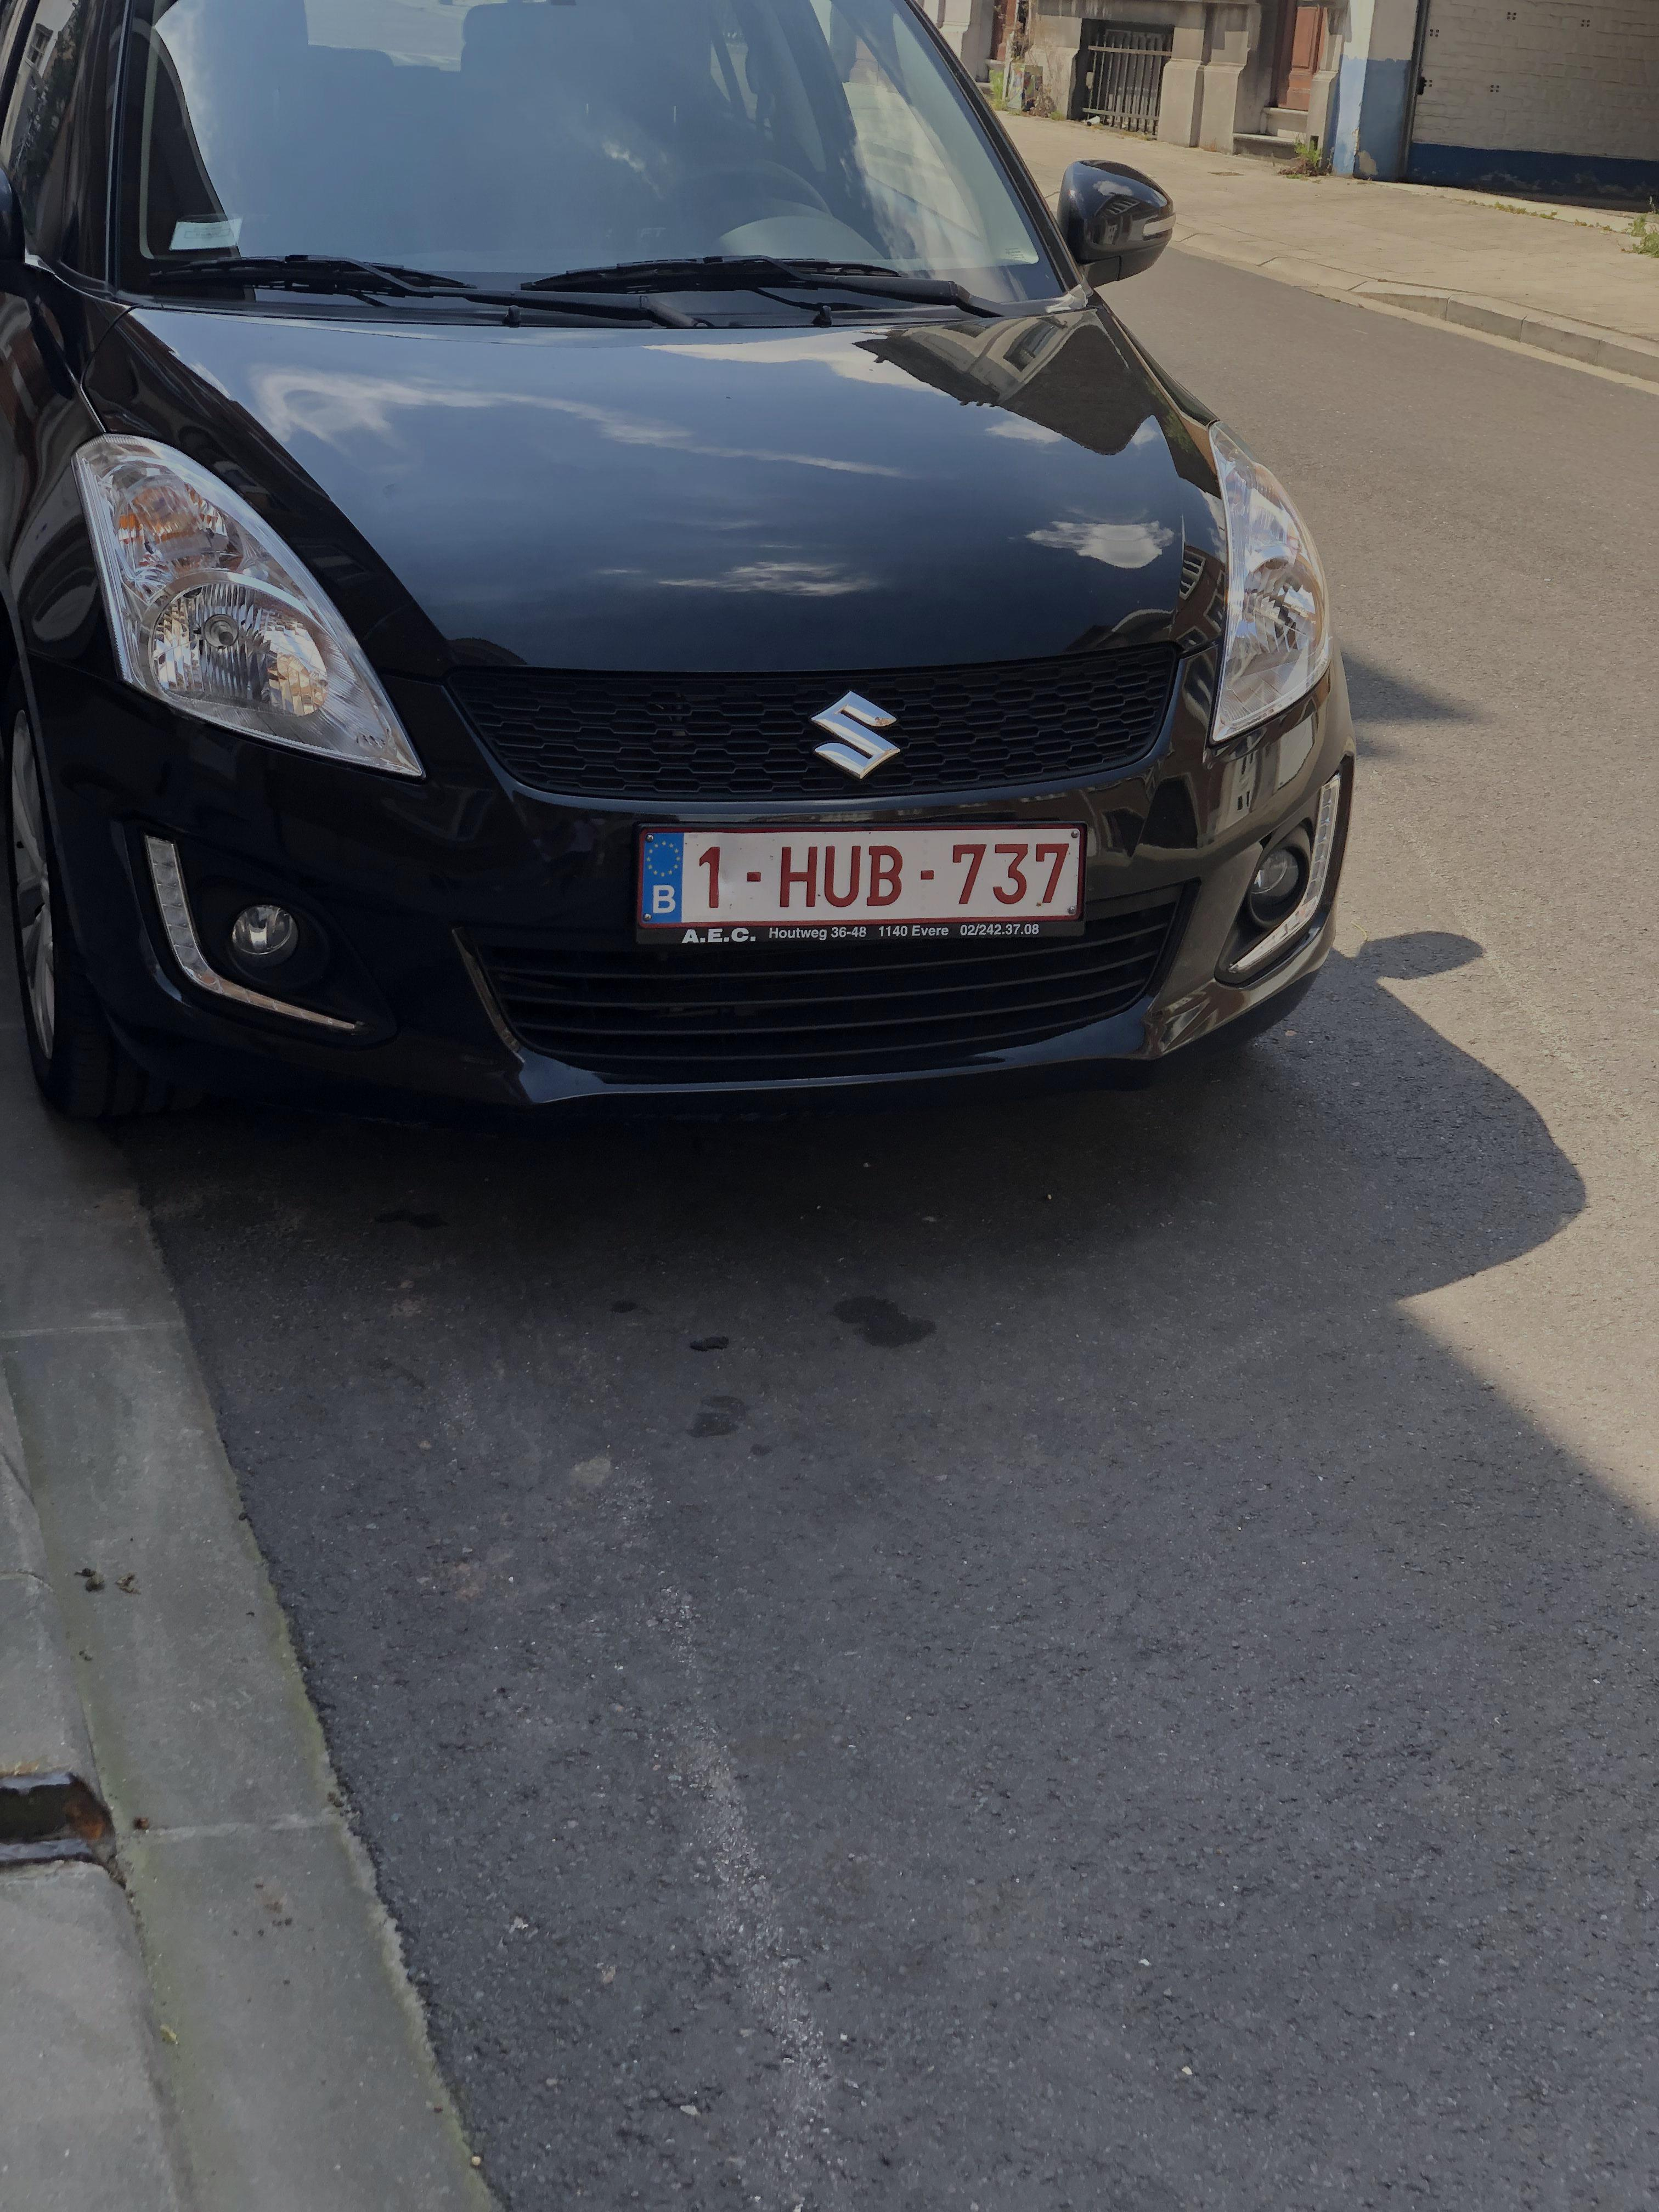plate: (604, 798, 1116, 954)
